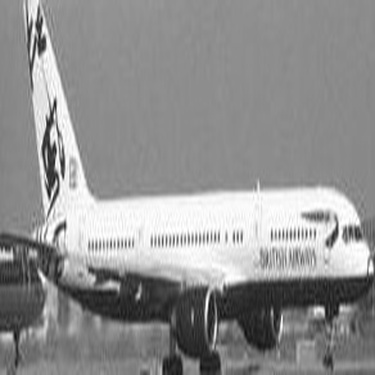airplane: (9, 1, 368, 371), (1, 218, 63, 371)
